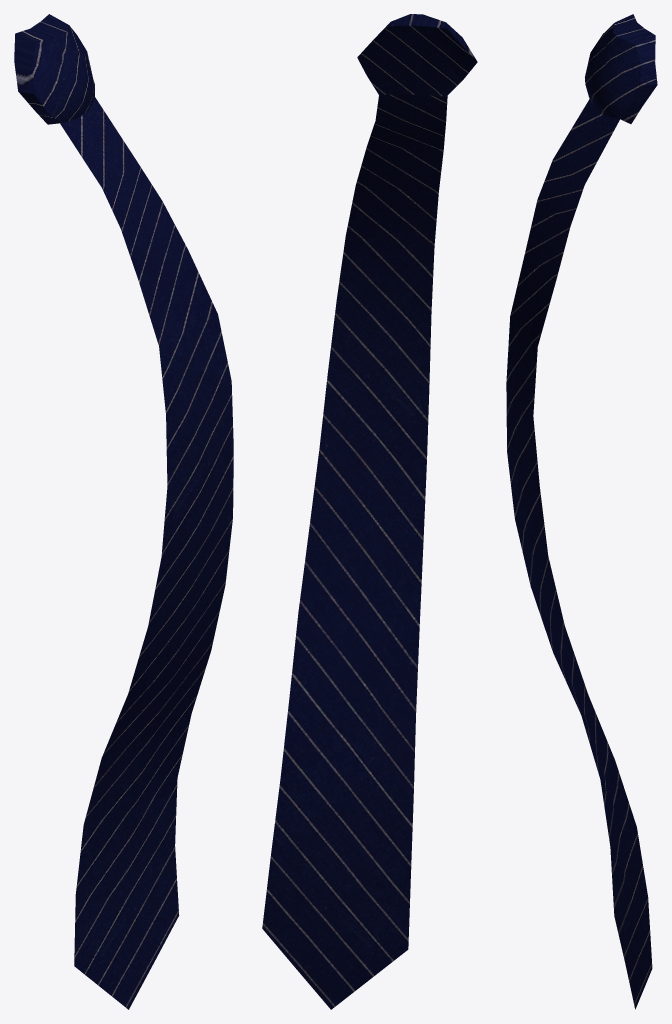
The model's file is Pose-5_SuitTie-4.fbx.
3 views of the same model, side by side, from view 1: azimuth 30°, elevation 25°; view 2: azimuth 150°, elevation 25°; view 3: azimuth 270°, elevation 25° (orthographic). The views are drawn at different scales.
Parts seen in each view (by area): view 1: Pose-5_SuitTie-4; view 2: Pose-5_SuitTie-4; view 3: Pose-5_SuitTie-4.
Part boxes in pixels (bbox=[...]): Pose-5_SuitTie-4: bbox=[14, 14, 233, 1009]; Pose-5_SuitTie-4: bbox=[262, 14, 477, 1009]; Pose-5_SuitTie-4: bbox=[506, 14, 657, 1009].
Size of the model in its own units: 10.11 by 51.67 by 7.5.
